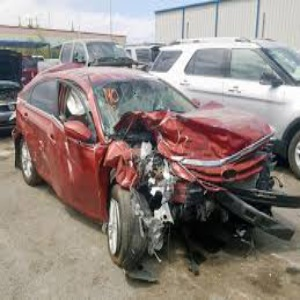bonnet: (137, 105, 271, 159)
bumper: (156, 173, 292, 259)
